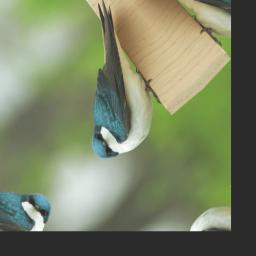Swallow: (25, 0, 189, 174)
